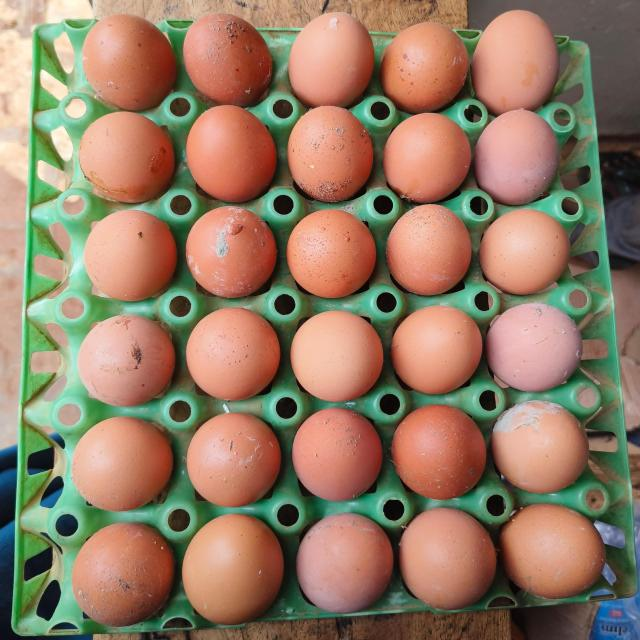Eggs: (185, 515, 288, 626), (401, 510, 502, 620), (506, 504, 611, 605), (75, 309, 181, 409), (70, 525, 175, 625), (69, 418, 178, 514), (187, 410, 288, 510), (297, 516, 395, 619), (74, 8, 178, 104), (184, 306, 282, 405), (185, 105, 282, 203), (492, 300, 588, 398), (289, 311, 384, 410), (80, 212, 178, 306), (494, 405, 592, 499), (74, 114, 178, 201), (187, 208, 279, 304), (391, 303, 487, 395), (392, 408, 490, 497), (478, 10, 563, 111), (185, 8, 276, 102), (293, 412, 386, 503), (288, 211, 378, 304), (388, 203, 478, 295), (484, 208, 576, 298), (385, 114, 476, 204), (385, 14, 470, 110), (291, 11, 377, 105), (288, 110, 378, 199), (480, 109, 566, 200)
